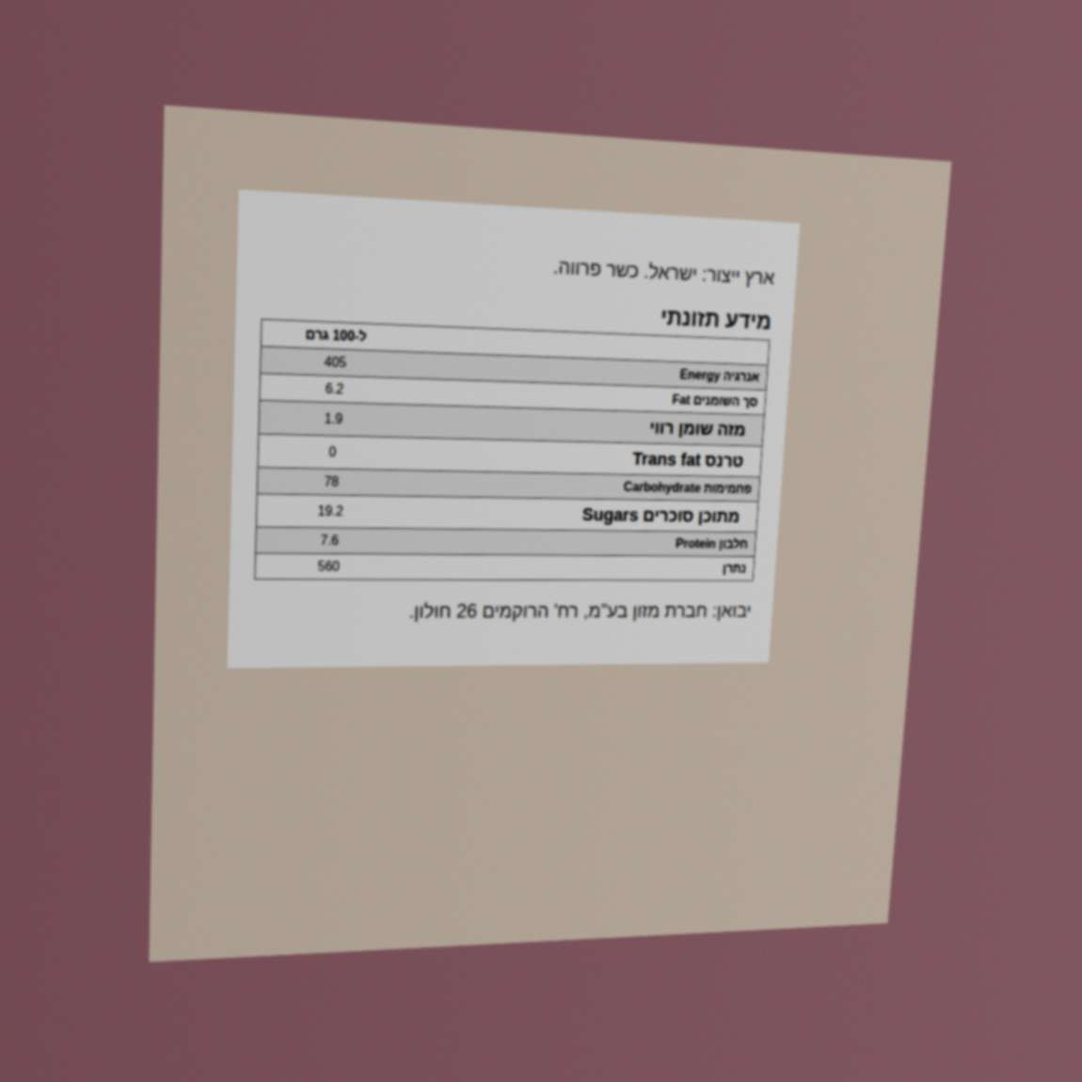carbs: (322, 472, 341, 491)
energy: (322, 352, 348, 372)
fat: (323, 379, 346, 398)
protein: (318, 531, 340, 549)
